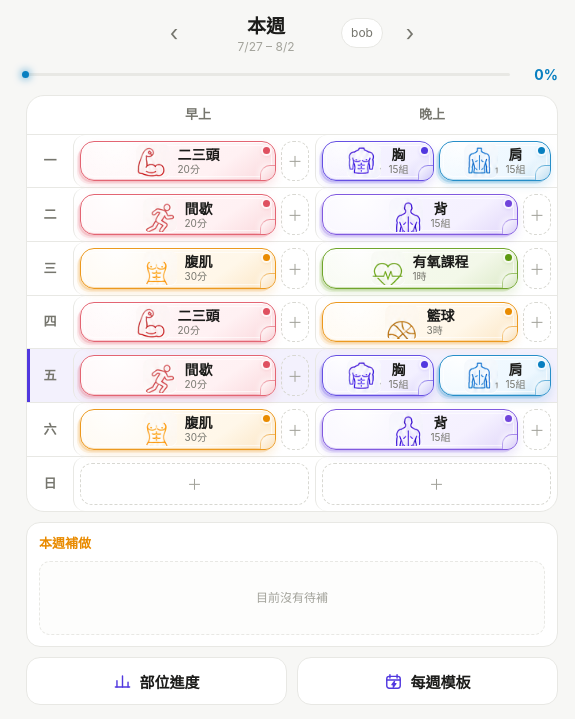
it: App — 打勾 › 打勾會反映到總進度百分比
Expected: the text "早上" is shown, [185,106,211,122]
Expected: the text "0%" is shown, [534,66,558,83]
Click the 1st button "二三頭 20分".
click(178, 161)  # box [80,140,276,181]
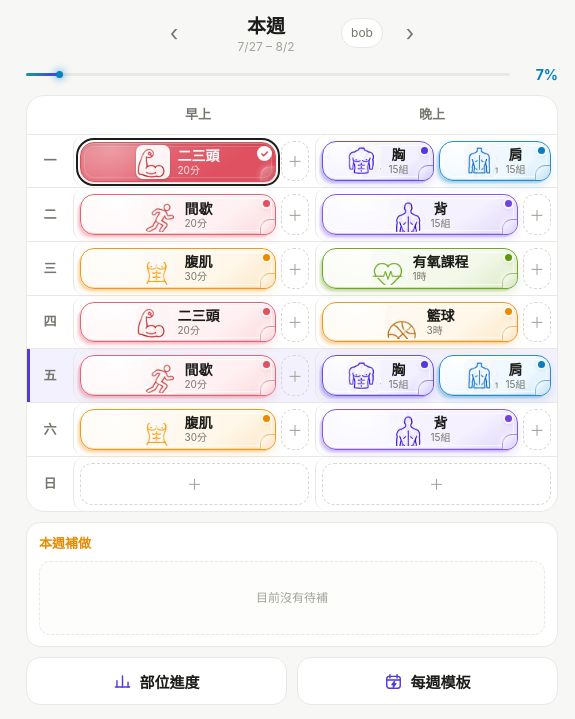
Expected: the text "0%" is gone
